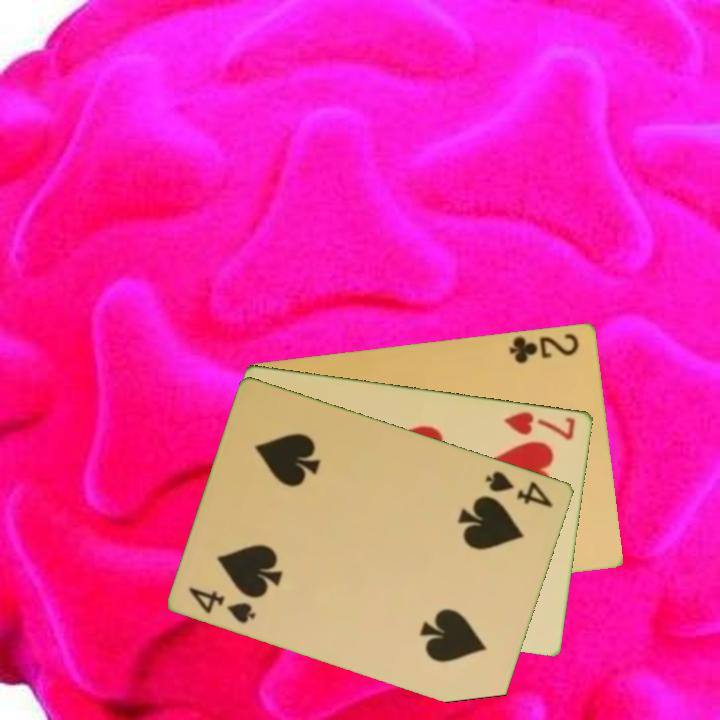2c: (506, 329, 582, 366)
4s: (482, 467, 556, 511), (185, 583, 259, 626)
7h: (501, 407, 579, 443)
